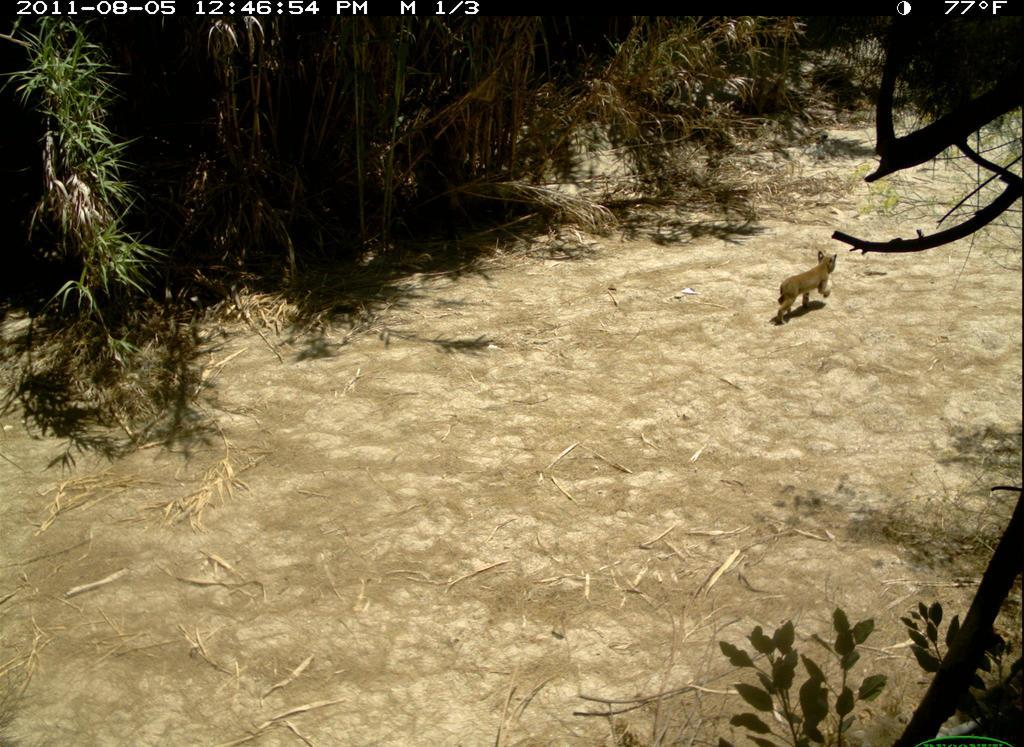bobcat: (771, 245, 851, 330)
